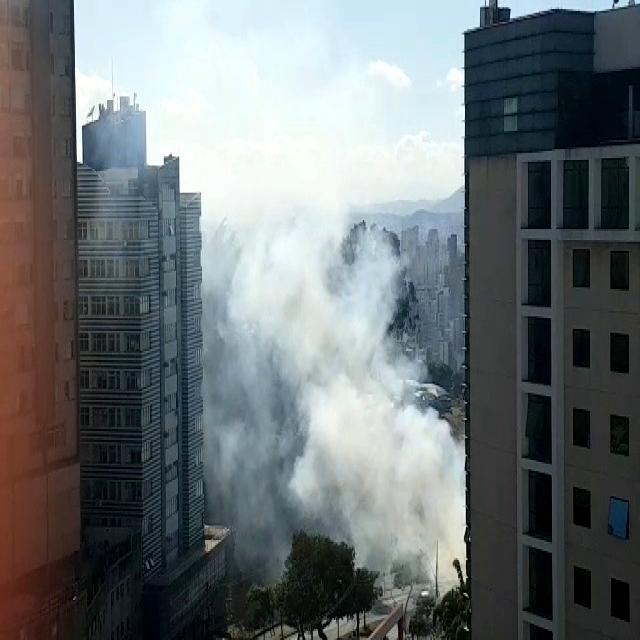Smoke: (199, 230, 468, 592)
